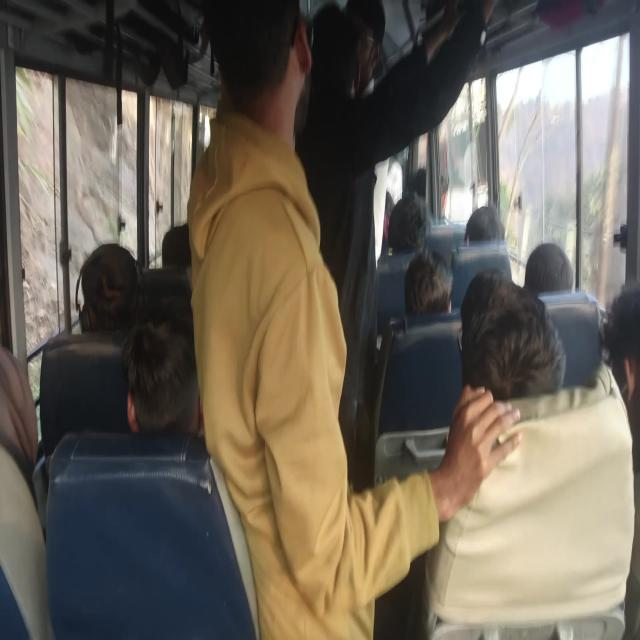person: (458, 286, 563, 438), (207, 15, 302, 146), (131, 287, 207, 437), (600, 299, 640, 484), (75, 250, 125, 324), (0, 359, 40, 449), (526, 244, 579, 306), (406, 254, 460, 314), (339, 0, 382, 72), (326, 4, 352, 106), (394, 198, 429, 252), (472, 210, 512, 253), (416, 150, 444, 208), (163, 224, 188, 272)
